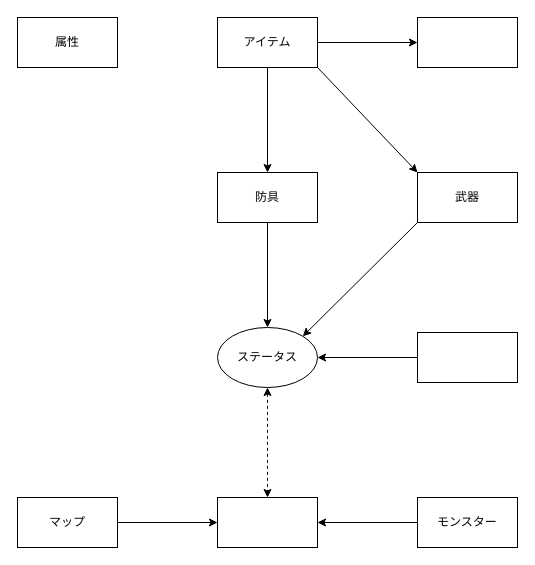
This 535x565 diagram has some shape labels left out. Here are the shapes that lost their labels. From the top down, the centre of each, then its label:
point (467, 42): アイテム効果
point (467, 357): 食事
point (267, 522): クエスト
